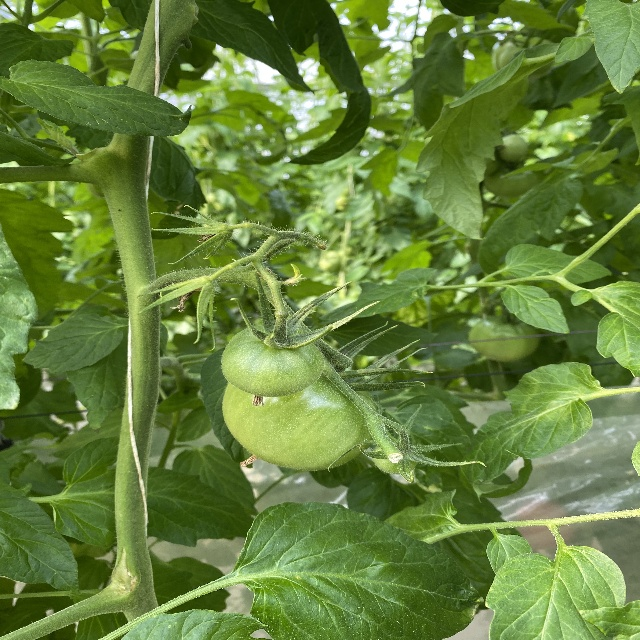b_green: (222, 363, 379, 471), (221, 325, 324, 399), (374, 445, 417, 474)
